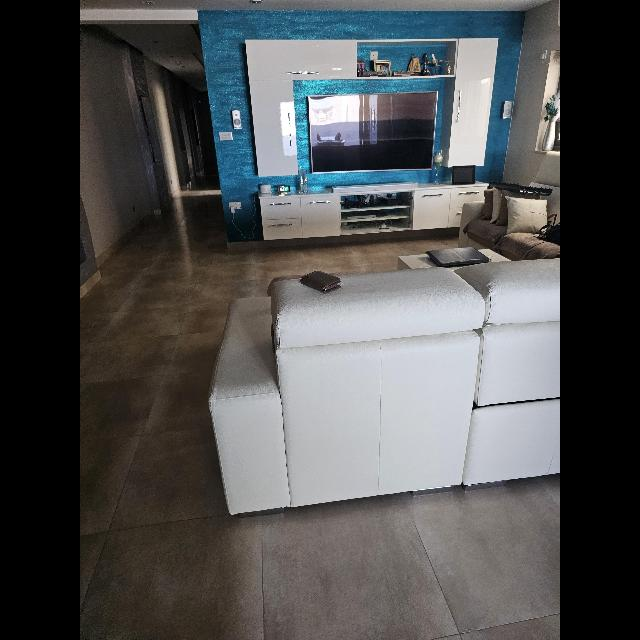Wallet: (300, 270, 342, 294)
